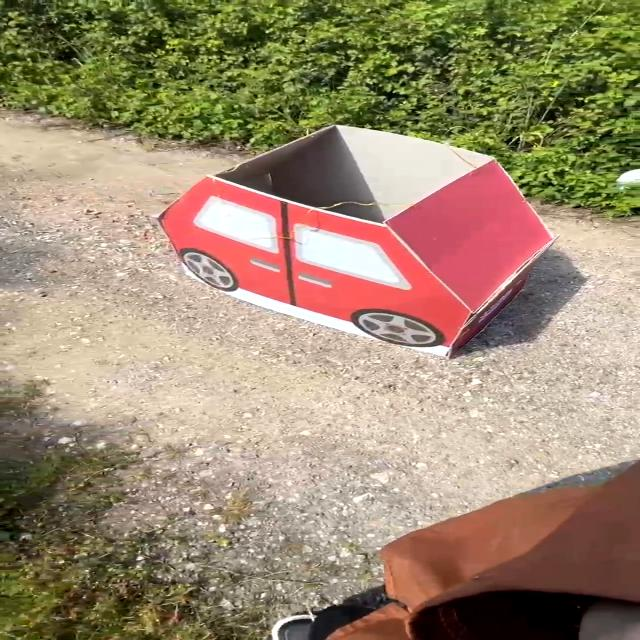red_car: (132, 90, 594, 385)
